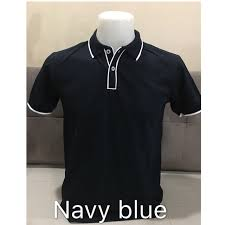S_polo shirt: (29, 30, 207, 222)
